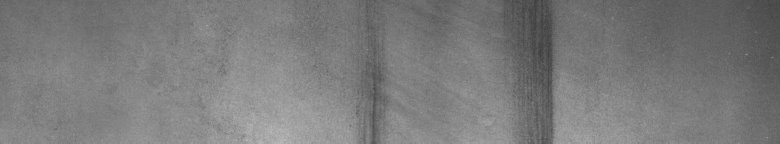ka: (520, 13, 560, 136)
